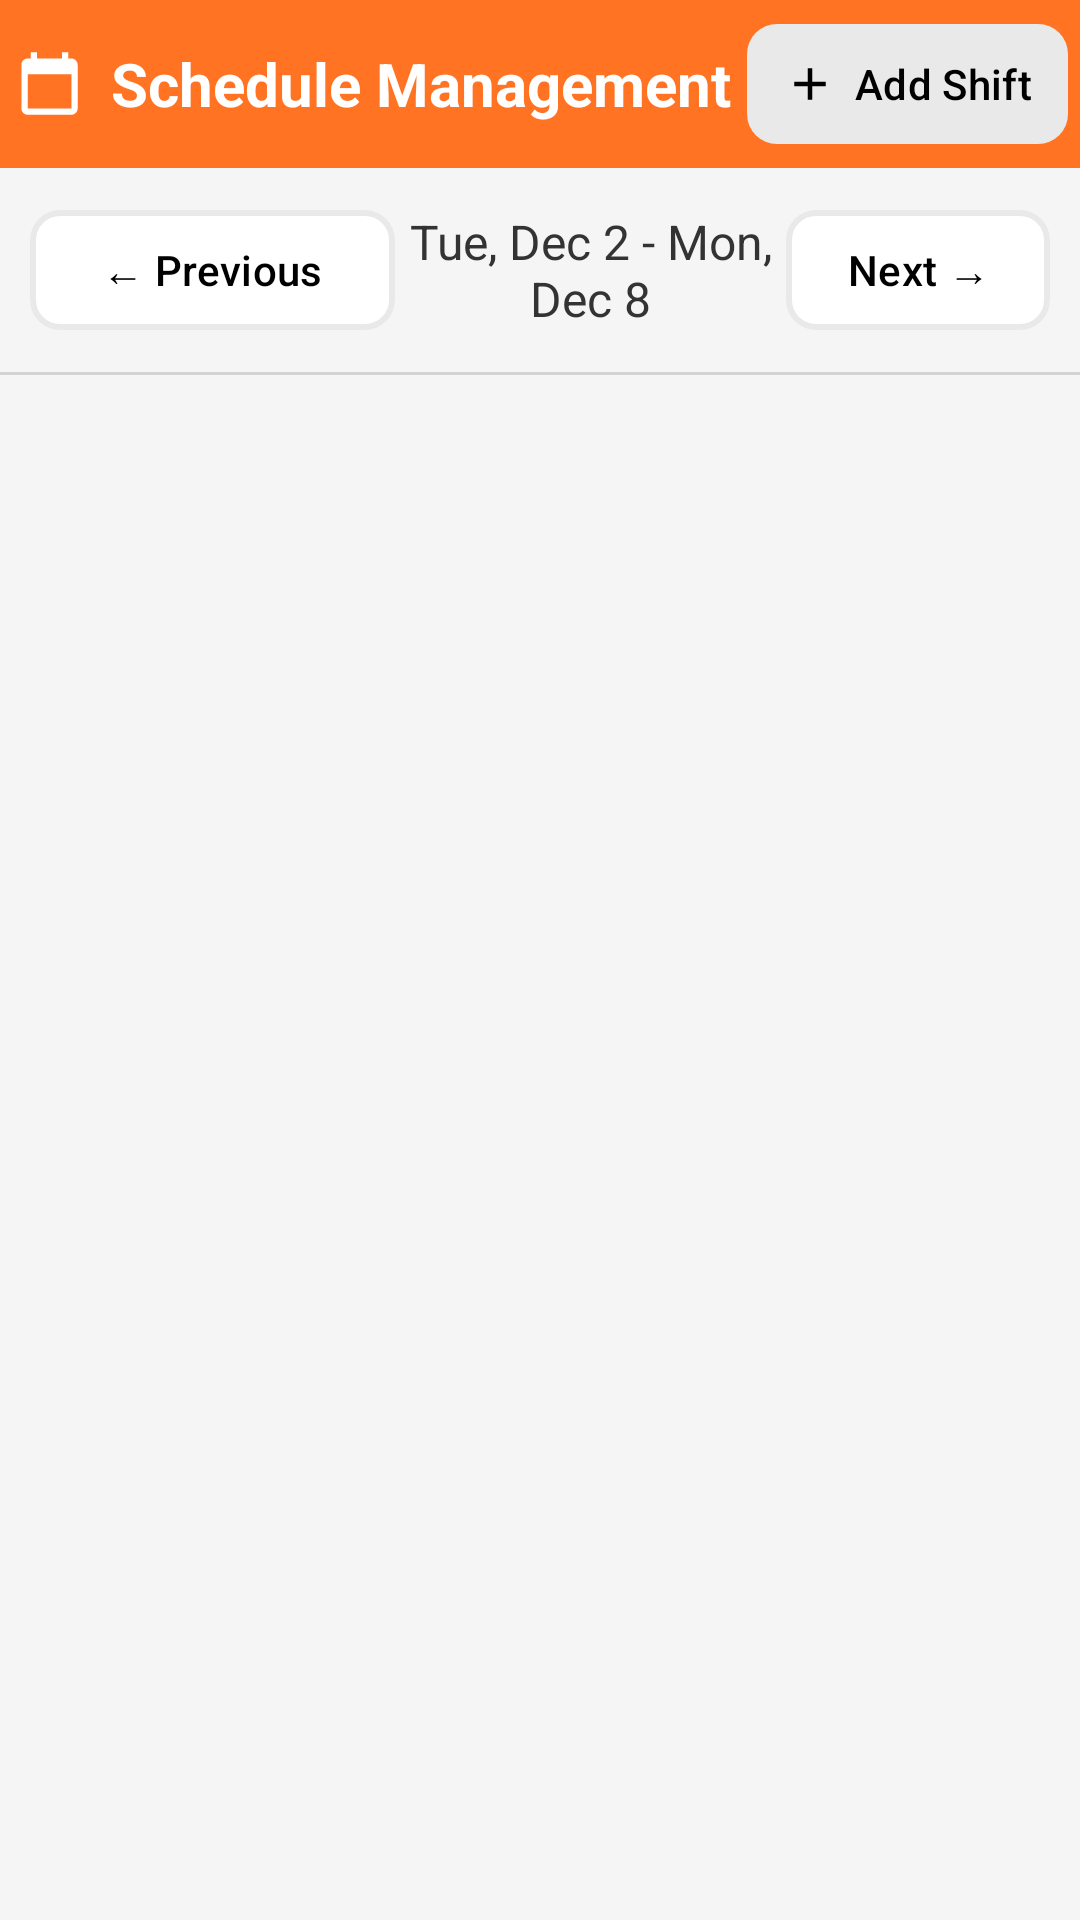

Point at icon controls on the screen. Image size 1080px×1920px, points as (x=x, y=y).
calendar today: (x=49, y=83)
